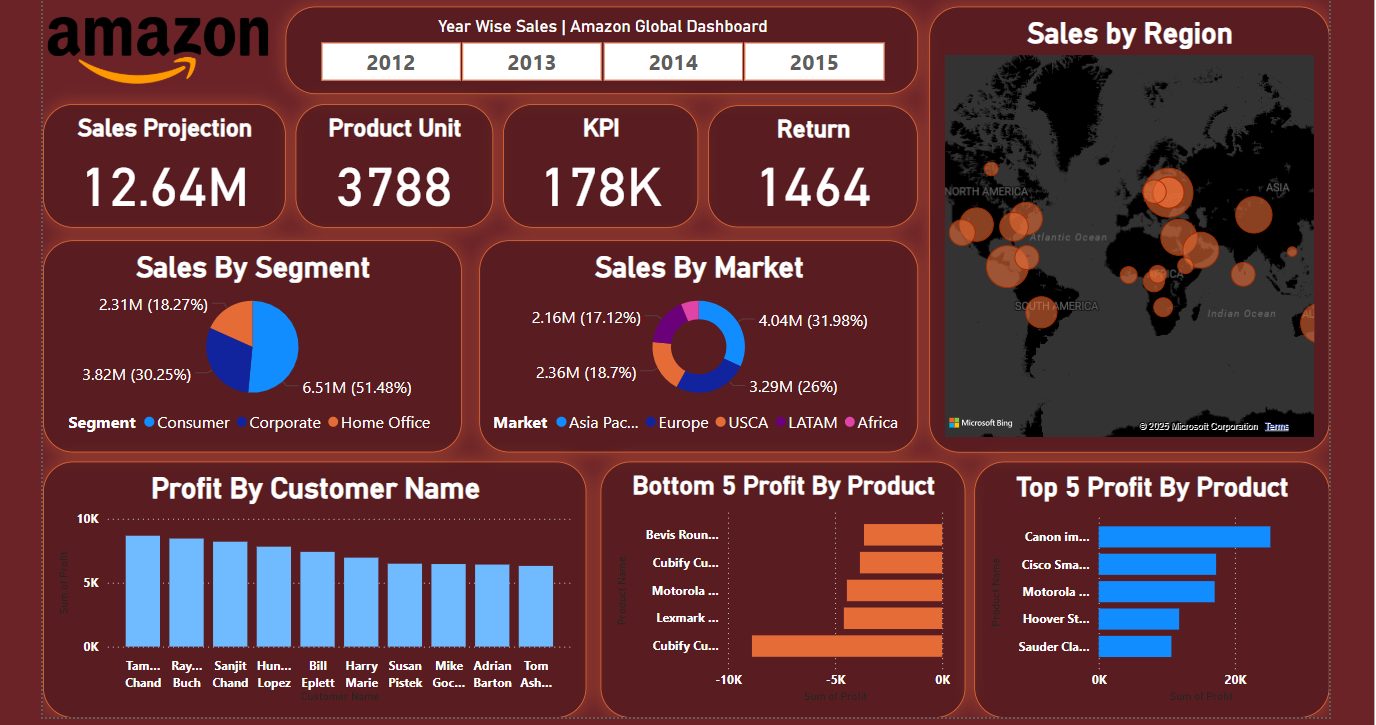

The dashboard page shown, as its layout file describes it:
{"tool":"powerbi","page":{"name":"Amazon Dashboard","canvas":[1280,720],"ordinal":0},"visuals":[{"type":"slicer","title":"Year Wise Sales | Amazon Global Dashboard","fields":{"Values":["Orders.Year"]},"box":[241.3,12.4,629.4,87.1],"z":0},{"type":"card","title":"Sales Projection","fields":{"Values":["Sum(Orders.Sales)"]},"box":[0,109.5,241.3,123.2],"z":1000},{"type":"image","box":[0,12.4,228.9,87.1],"z":2000},{"type":"card","title":"Product Unit","fields":{"Values":["Count(Orders.Product Name)"]},"box":[251.3,109.5,196.5,123.2],"z":3000},{"type":"card","title":"KPI","fields":{"Values":["Sum(Orders.Quantity)"]},"box":[457.8,109.5,194.1,123.2],"z":4000},{"type":"card","title":"Return","fields":{"Values":["Count(Orders.Ship Date)"]},"box":[661.8,110.7,209,121.9],"z":5000},{"type":"pieChart","title":"Sales By Segment","fields":{"Y":["Sum(Orders.Sales)"],"Category":["Orders.Segment"]},"box":[0,245.1,416.7,211.5],"z":6000},{"type":"donutChart","title":"Sales By Market","fields":{"Y":["Sum(Orders.Sales)"],"Category":["Orders.Market"]},"box":[434.1,245.1,436.6,211.5],"z":7000},{"type":"columnChart","title":"Profit By Customer Name","fields":{"Category":["Orders.Customer Name"],"Y":["Sum(Orders.Profit)"]},"box":[0,465.2,541.1,255],"z":8000},{"type":"clusteredBarChart","title":"Bottom 5 Profit By Product","fields":{"Y":["Sum(Orders.Profit)"],"Category":["Orders.Product Name"]},"box":[554.8,465.2,363.2,255],"z":9000},{"type":"clusteredBarChart","title":"Top 5 Profit By Product","fields":{"Y":["Sum(Orders.Profit)"],"Category":["Orders.Product Name"]},"box":[926.7,465.2,353.3,255],"z":10000},{"type":"map","title":" Sales by Region","fields":{"Category":["Orders.Region"],"Size":["Sum(Orders.Sales)"]},"box":[882,12.4,398.1,444.1],"z":11000}]}

Visuals, with their boxes on the page's 1280x720 design canvas (x1, y1, x2, y2). These are canvas units, not pixel positions in the 1376x725 screenshot, which may show the page scaled, cropped or inside an application window:
"Year Wise Sales | Amazon Global Dashboard" slicer: {"left": 241, "top": 12, "right": 871, "bottom": 100}
"Sales Projection" card: {"left": 0, "top": 110, "right": 241, "bottom": 233}
image: {"left": 0, "top": 12, "right": 229, "bottom": 100}
"Product Unit" card: {"left": 251, "top": 110, "right": 448, "bottom": 233}
"KPI" card: {"left": 458, "top": 110, "right": 652, "bottom": 233}
"Return" card: {"left": 662, "top": 111, "right": 871, "bottom": 233}
"Sales By Segment" pieChart: {"left": 0, "top": 245, "right": 417, "bottom": 457}
"Sales By Market" donutChart: {"left": 434, "top": 245, "right": 871, "bottom": 457}
"Profit By Customer Name" columnChart: {"left": 0, "top": 465, "right": 541, "bottom": 720}
"Bottom 5 Profit By Product" clusteredBarChart: {"left": 555, "top": 465, "right": 918, "bottom": 720}
"Top 5 Profit By Product" clusteredBarChart: {"left": 927, "top": 465, "right": 1280, "bottom": 720}
" Sales by Region" map: {"left": 882, "top": 12, "right": 1280, "bottom": 456}
